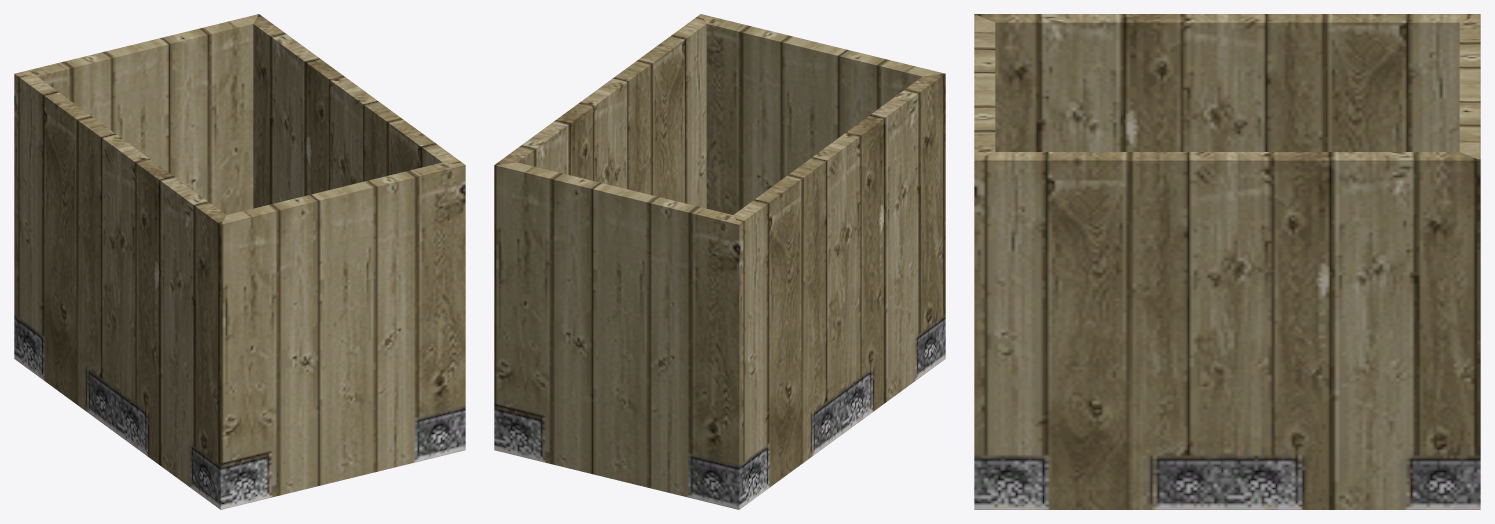
Rendered from howdah_hannibal.dae.
3 renders of one model, left to right at view 1: azimuth 30°, elevation 25°; view 2: azimuth 150°, elevation 25°; view 3: azimuth 270°, elevation 25°, orthographic. The views are drawn at different scales.
Visible parts, largest first — view 1: hele_sb4; view 2: hele_sb4; view 3: hele_sb4.
Boxes of the visible parts, x1,y1,x2,y2 form: hele_sb4: [14, 14, 465, 509]; hele_sb4: [494, 14, 945, 509]; hele_sb4: [974, 14, 1480, 509].
Size of the model in its own units: 2.56 by 2.84 by 3.73.
